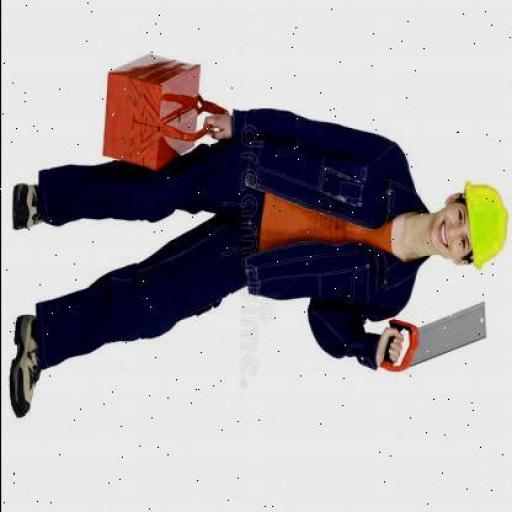person: (10, 96, 507, 388)
safety_shoe: (8, 313, 39, 423), (8, 180, 46, 235)
